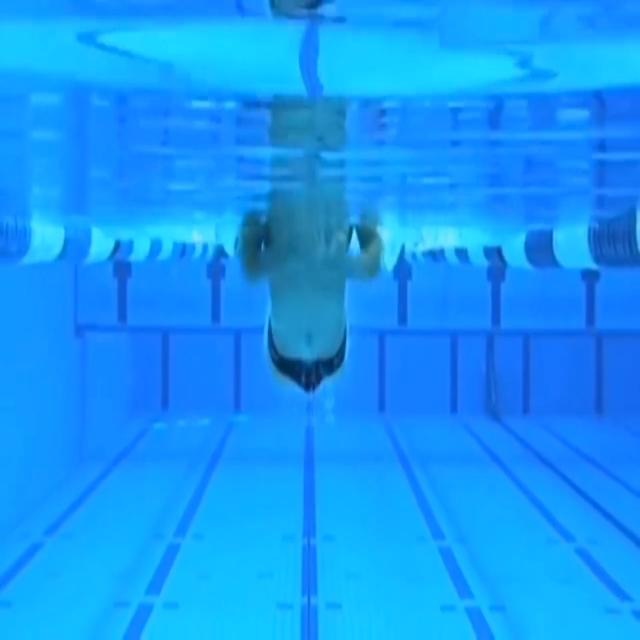Swimming: (237, 212, 384, 400)
